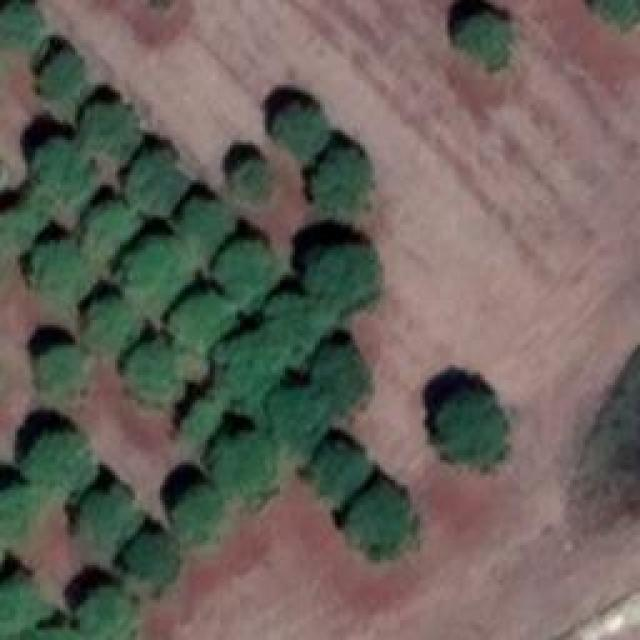Tree: (348, 488, 418, 558), (308, 245, 381, 310), (443, 398, 508, 463), (25, 433, 88, 496), (267, 300, 325, 363), (315, 148, 373, 211), (218, 338, 273, 403), (127, 238, 185, 298), (80, 485, 140, 543), (218, 435, 273, 498), (215, 245, 270, 308), (272, 392, 330, 450), (315, 350, 368, 413), (130, 153, 185, 213), (35, 140, 90, 200), (170, 298, 233, 348), (275, 103, 330, 158), (0, 190, 48, 253), (313, 448, 368, 501), (80, 103, 135, 156), (80, 585, 133, 640), (455, 15, 508, 70), (88, 203, 138, 258), (128, 535, 178, 590), (0, 577, 42, 640), (130, 345, 178, 400), (187, 200, 225, 260), (35, 243, 83, 288), (175, 490, 218, 538), (90, 303, 130, 353), (0, 0, 40, 50), (43, 347, 83, 395), (0, 487, 32, 542), (45, 53, 83, 98), (587, 0, 640, 30), (178, 400, 218, 438), (235, 163, 270, 198)
